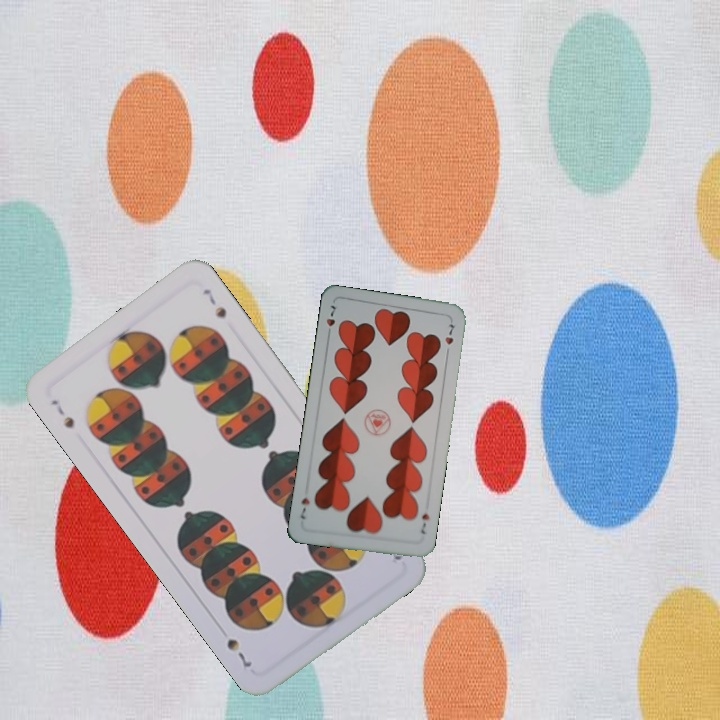H7: (322, 300, 338, 340), (416, 509, 432, 536)
S7: (46, 395, 77, 431)
